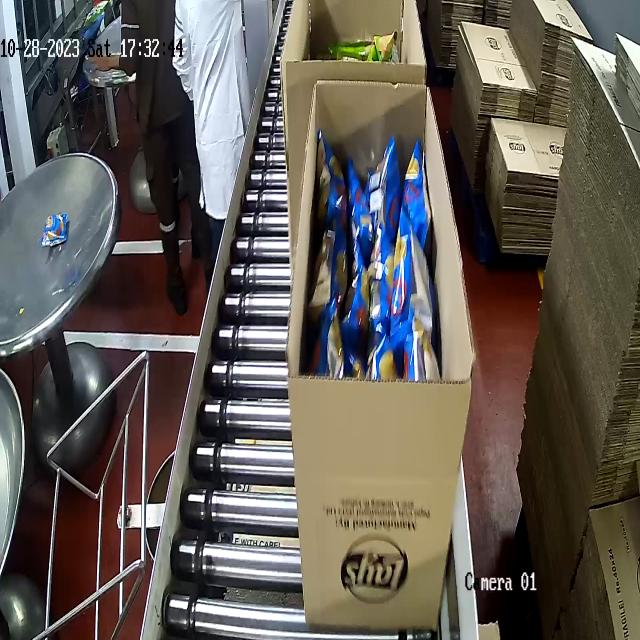PAPRIKA: (310, 135, 445, 358)
